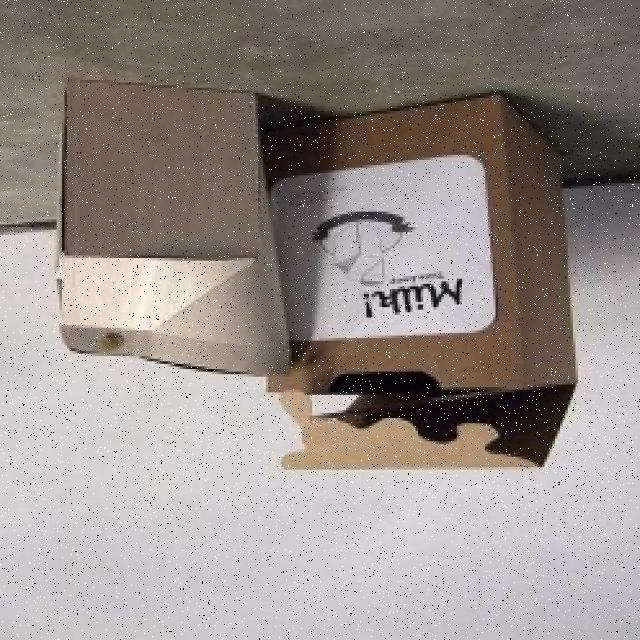box: (266, 91, 565, 465), (48, 66, 292, 411)
